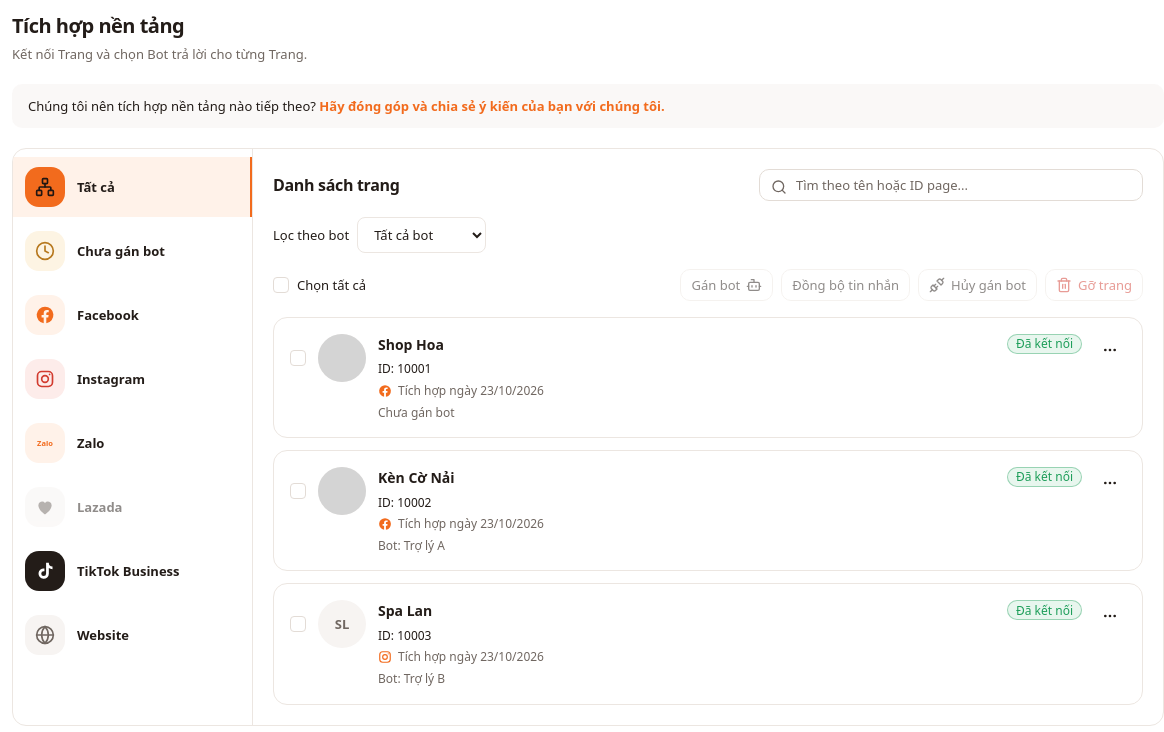
combines the bot assignment filter with page search
Expected: the text "Kèn Cờ Nải" is shown, [378,467,455,490]
Select "Trợ lý B" in the dropdown labelled "Lọc theo bot" at (422,235), box [357,217,486,253]
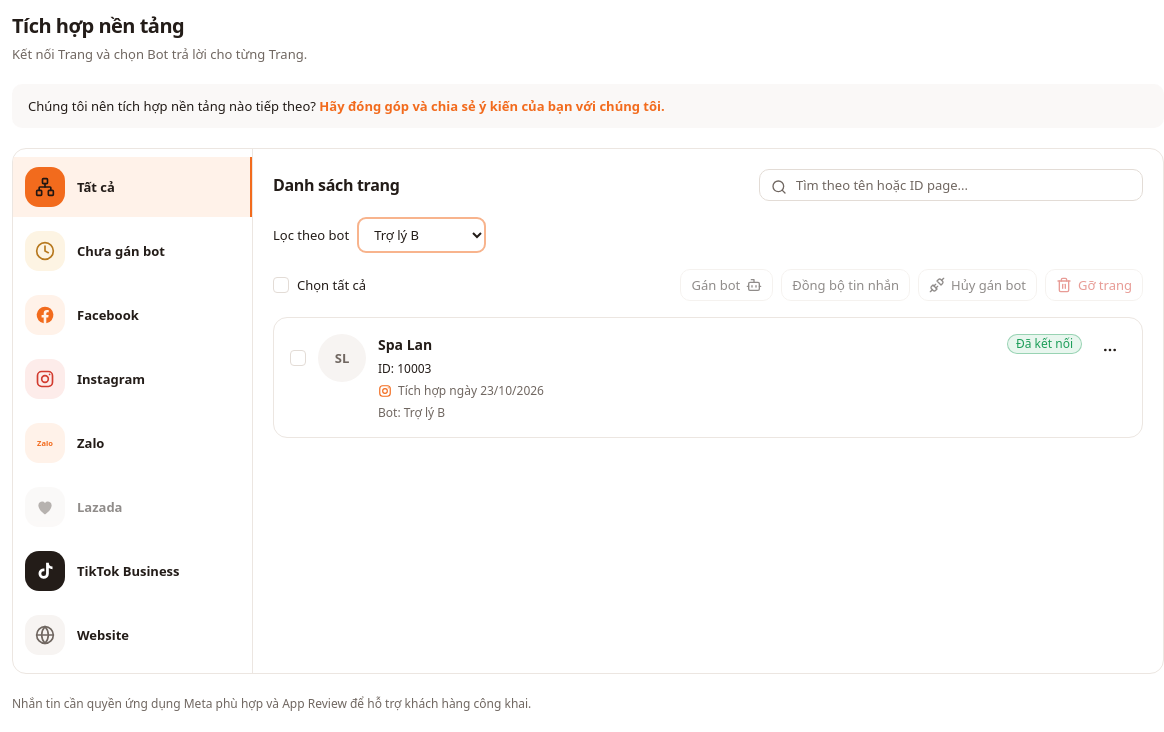
Expected: the text "Spa Lan" is shown, [378,334,432,356]
Now the text "Shop Hoa" is gone
Type "not a page" into the search field.
click(951, 185); type("not a page")  # box [759,169,1143,201]
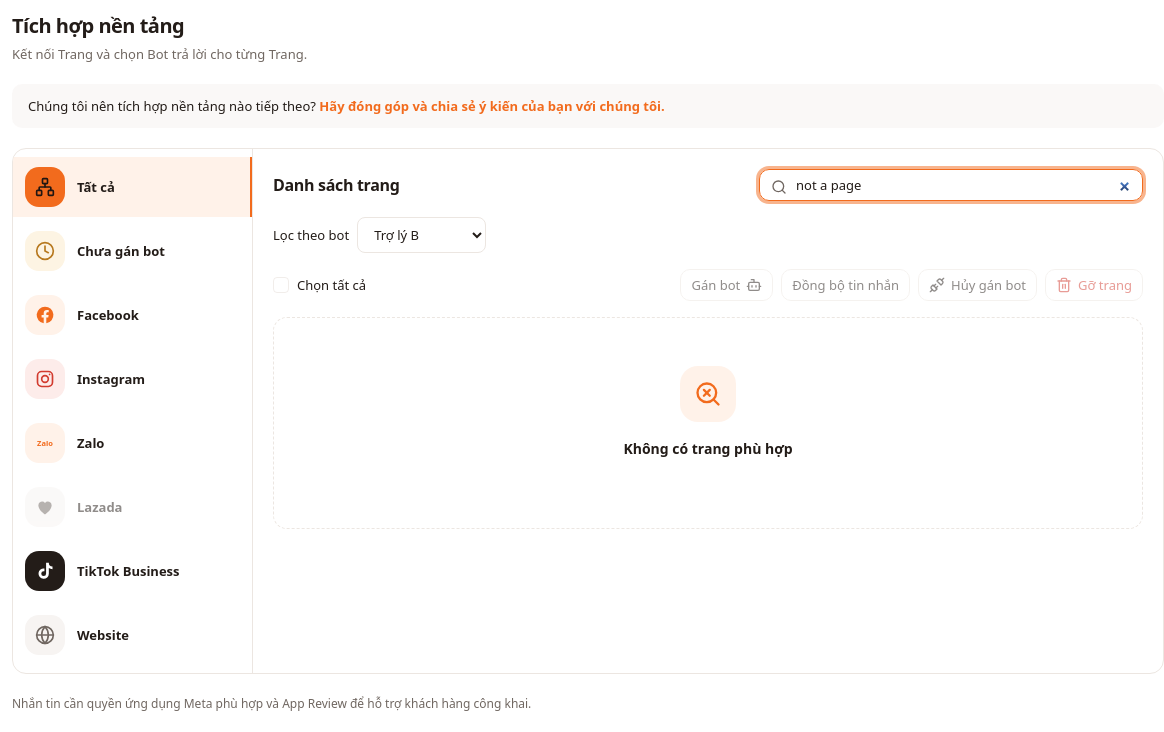
Now the text "Spa Lan" is gone
Clear the search field at (951,185), box [759,169,1143,201]
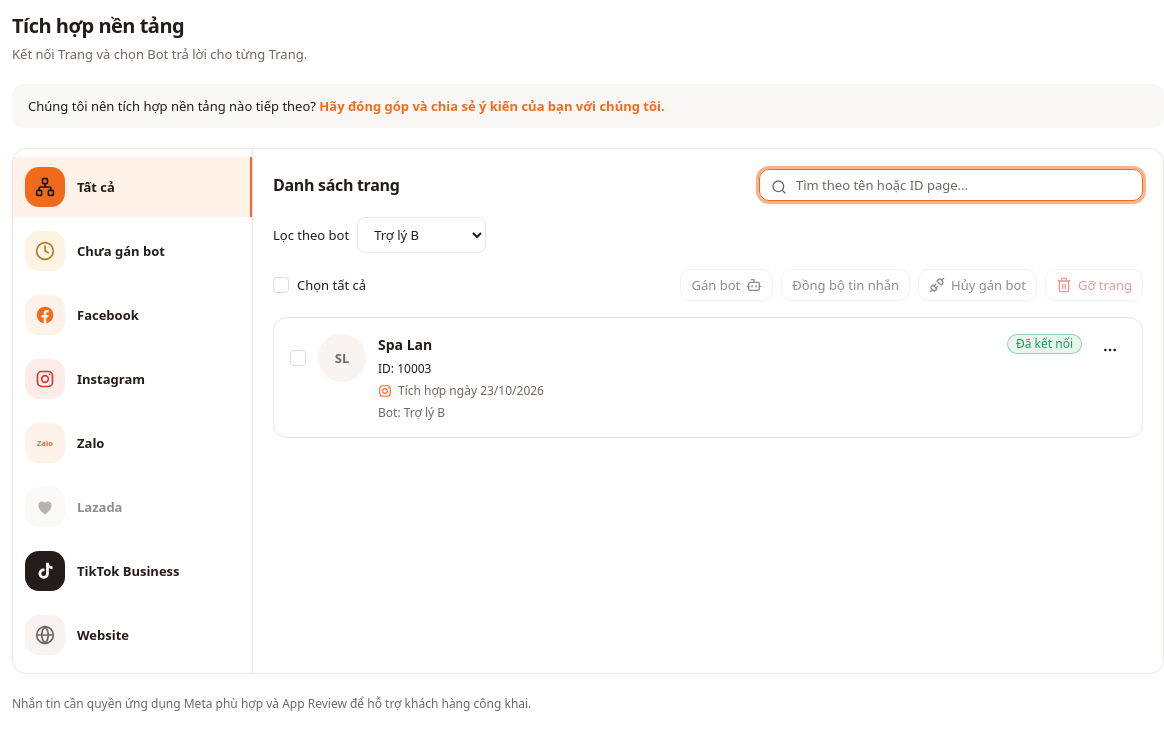
Select "Chưa gán bot" in the dropdown labelled "Lọc theo bot" at (422,235), box [357,217,486,253]
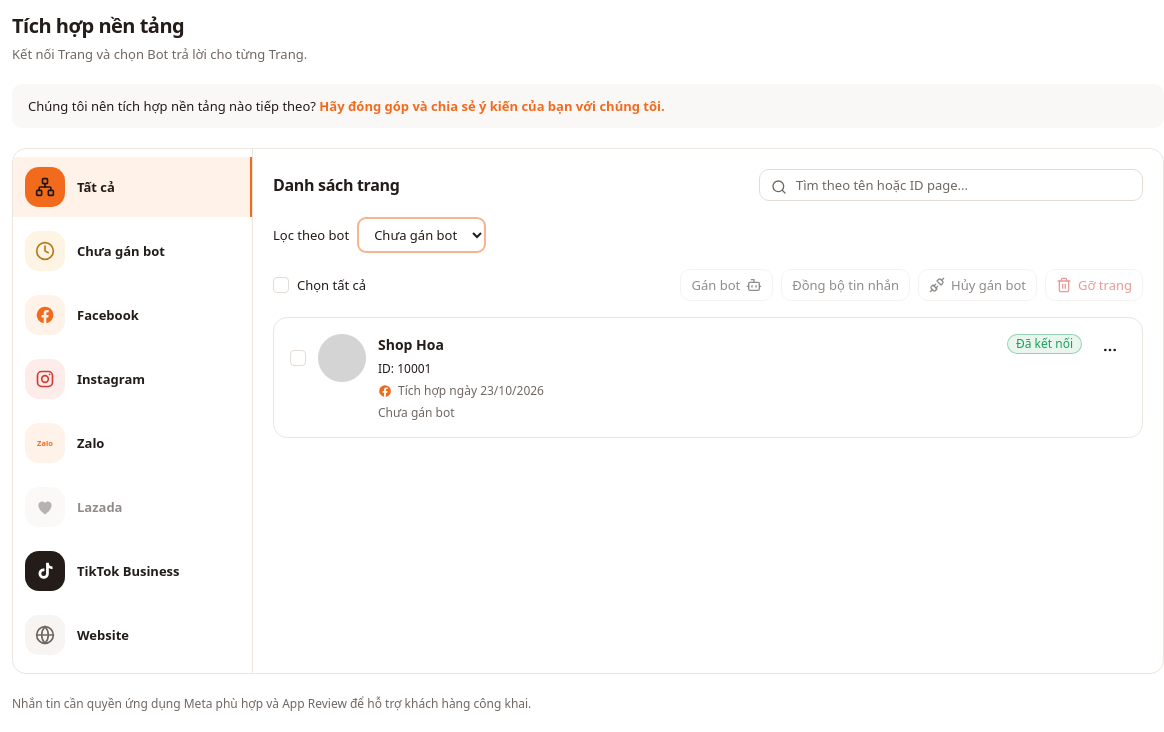
Now the text "Shop Hoa" is shown, box [378,334,444,356]
Now the text "Spa Lan" is gone
